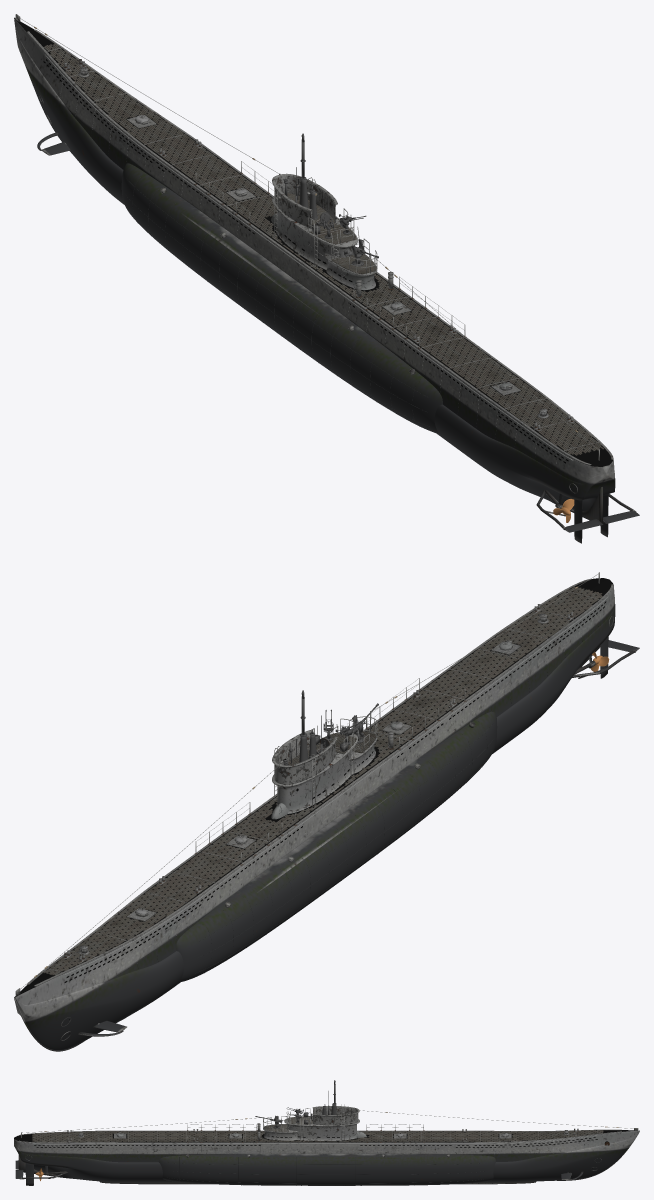
File: u505_exterior_textured.glb
3 renders of one model, top to bottom at view 1: azimuth 30°, elevation 25°; view 2: azimuth 150°, elevation 25°; view 3: azimuth 270°, elevation 25°, orthographic. The views are drawn at different scales.
Parts seen in each view (by area): view 1: Hull_Outer, SaddleTank_P, Deck_Planks, Deck_Steel, Casing_Seams, Tower_Fairwater, Stern_Gear, Tower_Bulwark, Deck_Fittings, Tower_Gratings, Tower_Railings, Tower_AftFairing (+3 smaller); view 2: Hull_Outer, SaddleTank_P, Deck_Planks, Deck_Steel, Tower_Fairwater, Casing_Seams, Tower_Bulwark, Deck_Fittings, Stern_Gear, Tower_Railings, Casing_Openings, Armament_Guns (+3 smaller); view 3: Hull_Outer, SaddleTank_S, Deck_Planks, Deck_Steel, Casing_Seams, Tower_Fairwater, Tower_Bulwark, Stern_Gear, Casing_Openings, Keel_Ballast, Deck_Fittings, Tower_AftFairing (+7 smaller).
Boxes of the visible parts, box(x1,y1,x2,y2) form: Hull_Outer: box(14, 17, 615, 510); SaddleTank_P: box(121, 163, 442, 433); Deck_Planks: box(43, 43, 603, 455); Deck_Steel: box(27, 29, 613, 465); Casing_Seams: box(44, 54, 573, 470); Tower_Fairwater: box(272, 196, 358, 269); Stern_Gear: box(536, 487, 639, 543); Tower_Bulwark: box(272, 173, 337, 228); Deck_Fittings: box(62, 59, 574, 431); Tower_Gratings: box(284, 193, 376, 274); Tower_Railings: box(274, 177, 377, 274); Tower_AftFairing: box(325, 252, 377, 290); Hull_Outer: box(14, 578, 615, 1050); SaddleTank_P: box(176, 711, 497, 982); Deck_Planks: box(43, 586, 602, 975); Deck_Steel: box(27, 579, 613, 986); Tower_Fairwater: box(272, 732, 358, 813); Casing_Seams: box(64, 595, 608, 983); Tower_Bulwark: box(272, 730, 337, 784); Deck_Fittings: box(62, 604, 575, 962); Stern_Gear: box(572, 636, 639, 678); Tower_Railings: box(274, 716, 377, 808); Casing_Openings: box(64, 601, 606, 982); Armament_Guns: box(315, 703, 378, 751); Hull_Outer: box(14, 1130, 639, 1182); SaddleTank_S: box(158, 1154, 495, 1185); Deck_Planks: box(32, 1130, 603, 1142); Deck_Steel: box(19, 1129, 621, 1143); Casing_Seams: box(30, 1135, 596, 1185); Tower_Fairwater: box(284, 1116, 359, 1140); Tower_Bulwark: box(312, 1106, 359, 1125); Stern_Gear: box(15, 1155, 68, 1185); Casing_Openings: box(34, 1137, 597, 1147); Keel_Ballast: box(99, 1181, 536, 1184); Deck_Fittings: box(66, 1123, 579, 1141); Tower_AftFairing: box(263, 1124, 298, 1140).
Bounding box in the file's own units: 6.92 × 13.92 × 76.84.
13 materials, 4 textured.
